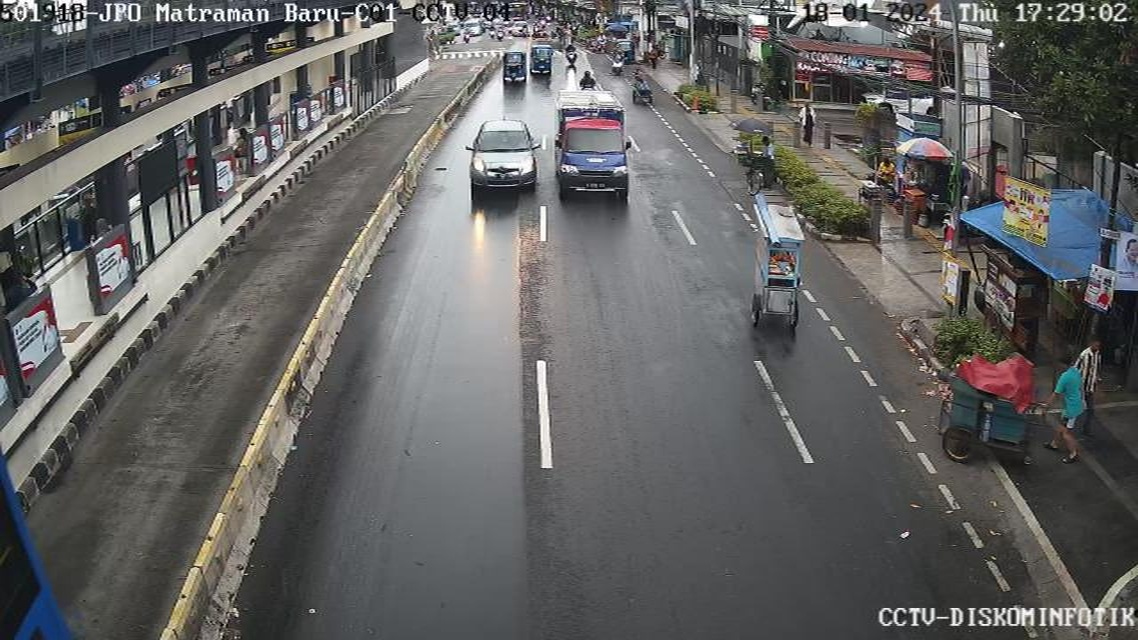Gerobak: (918, 341, 1097, 503), (731, 183, 823, 345), (958, 245, 1054, 335)
